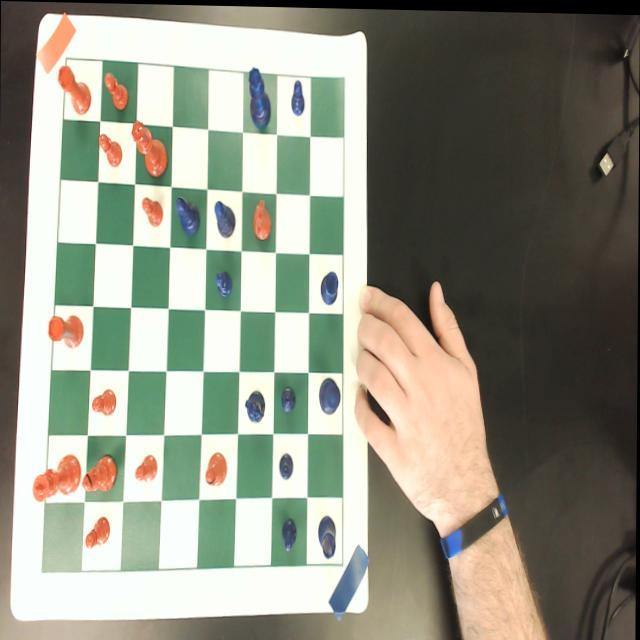B: (175, 195, 200, 235), (213, 198, 235, 237)
K: (318, 374, 341, 414)
N: (243, 384, 267, 423)
P: (289, 76, 305, 114), (281, 515, 297, 551), (215, 267, 231, 298), (280, 383, 295, 413), (278, 450, 292, 478)
Q: (246, 63, 271, 126)
R: (318, 510, 337, 556), (320, 269, 338, 303)
b: (82, 452, 118, 495), (205, 451, 227, 486)
k: (33, 453, 81, 503)
n: (251, 195, 271, 239)
p: (103, 71, 128, 109), (96, 132, 122, 166), (91, 386, 116, 419), (86, 515, 110, 549), (141, 194, 163, 225), (135, 452, 157, 483)
q: (130, 118, 167, 176)
r: (56, 63, 91, 114), (47, 312, 83, 346)
